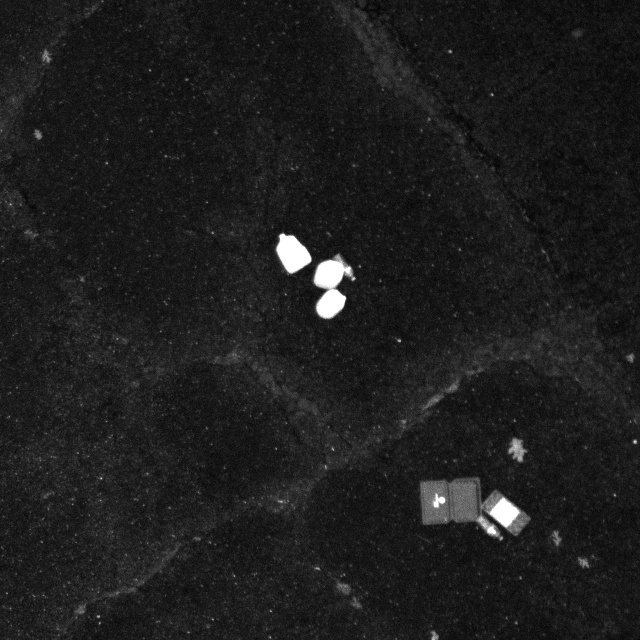bottle: (472, 514, 509, 544), (332, 249, 362, 284)
can: (273, 230, 314, 276), (312, 285, 349, 322), (309, 259, 347, 292)
container: (415, 473, 487, 530), (477, 485, 535, 537)
